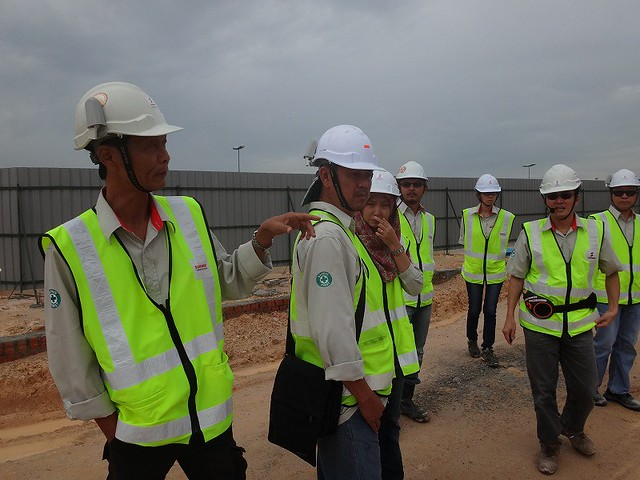Helmet: (66, 77, 195, 211), (299, 117, 388, 220), (534, 161, 584, 228), (359, 165, 406, 231), (394, 158, 436, 212), (600, 162, 640, 218), (469, 168, 509, 217)
Reflective vest: (40, 193, 240, 453), (286, 207, 397, 441), (520, 215, 608, 342), (588, 209, 640, 311), (396, 205, 442, 314), (458, 205, 515, 289)
